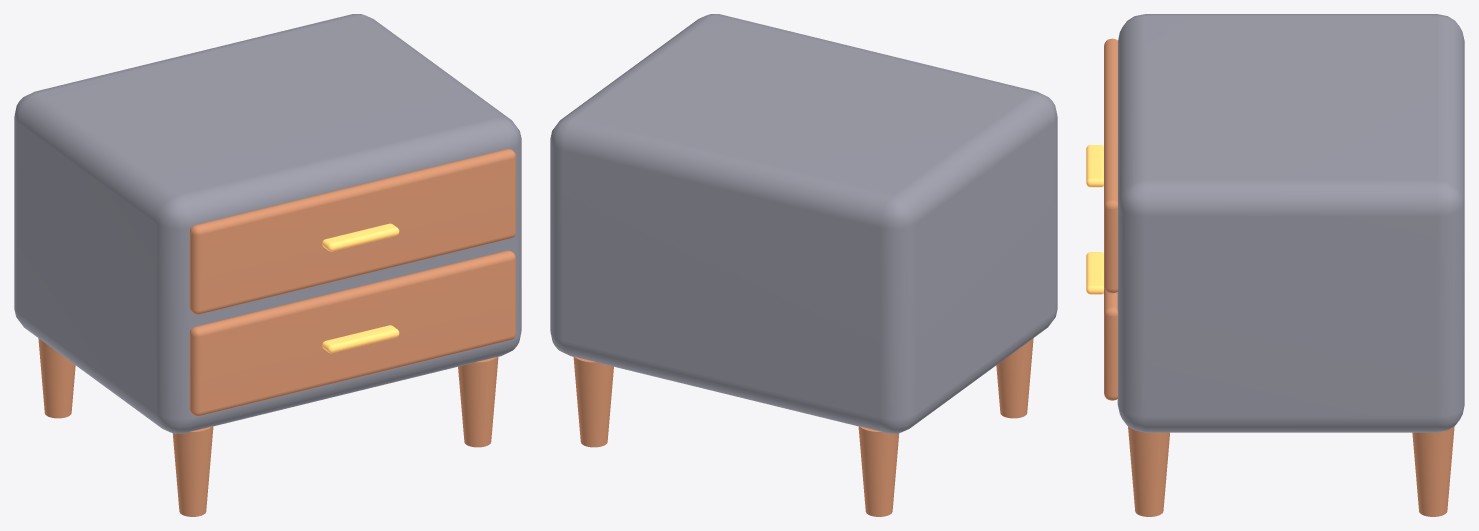
Rendered from onyx_nightstand.glb.
3 views of the same model, side by side, from view 1: azimuth 30°, elevation 25°; view 2: azimuth 150°, elevation 25°; view 3: azimuth 270°, elevation 25° (orthographic). The views are drawn at different scales.
Parts seen in each view (by area): view 1: onyx_nightstand; view 2: onyx_nightstand; view 3: onyx_nightstand.
Part boxes in pixels (box(x1,y1,x2,y2)): onyx_nightstand: box(14, 14, 521, 516); onyx_nightstand: box(550, 14, 1057, 516); onyx_nightstand: box(1086, 14, 1464, 516).
Bounding box in the file's own units: 0.56 × 0.475 × 0.48.
